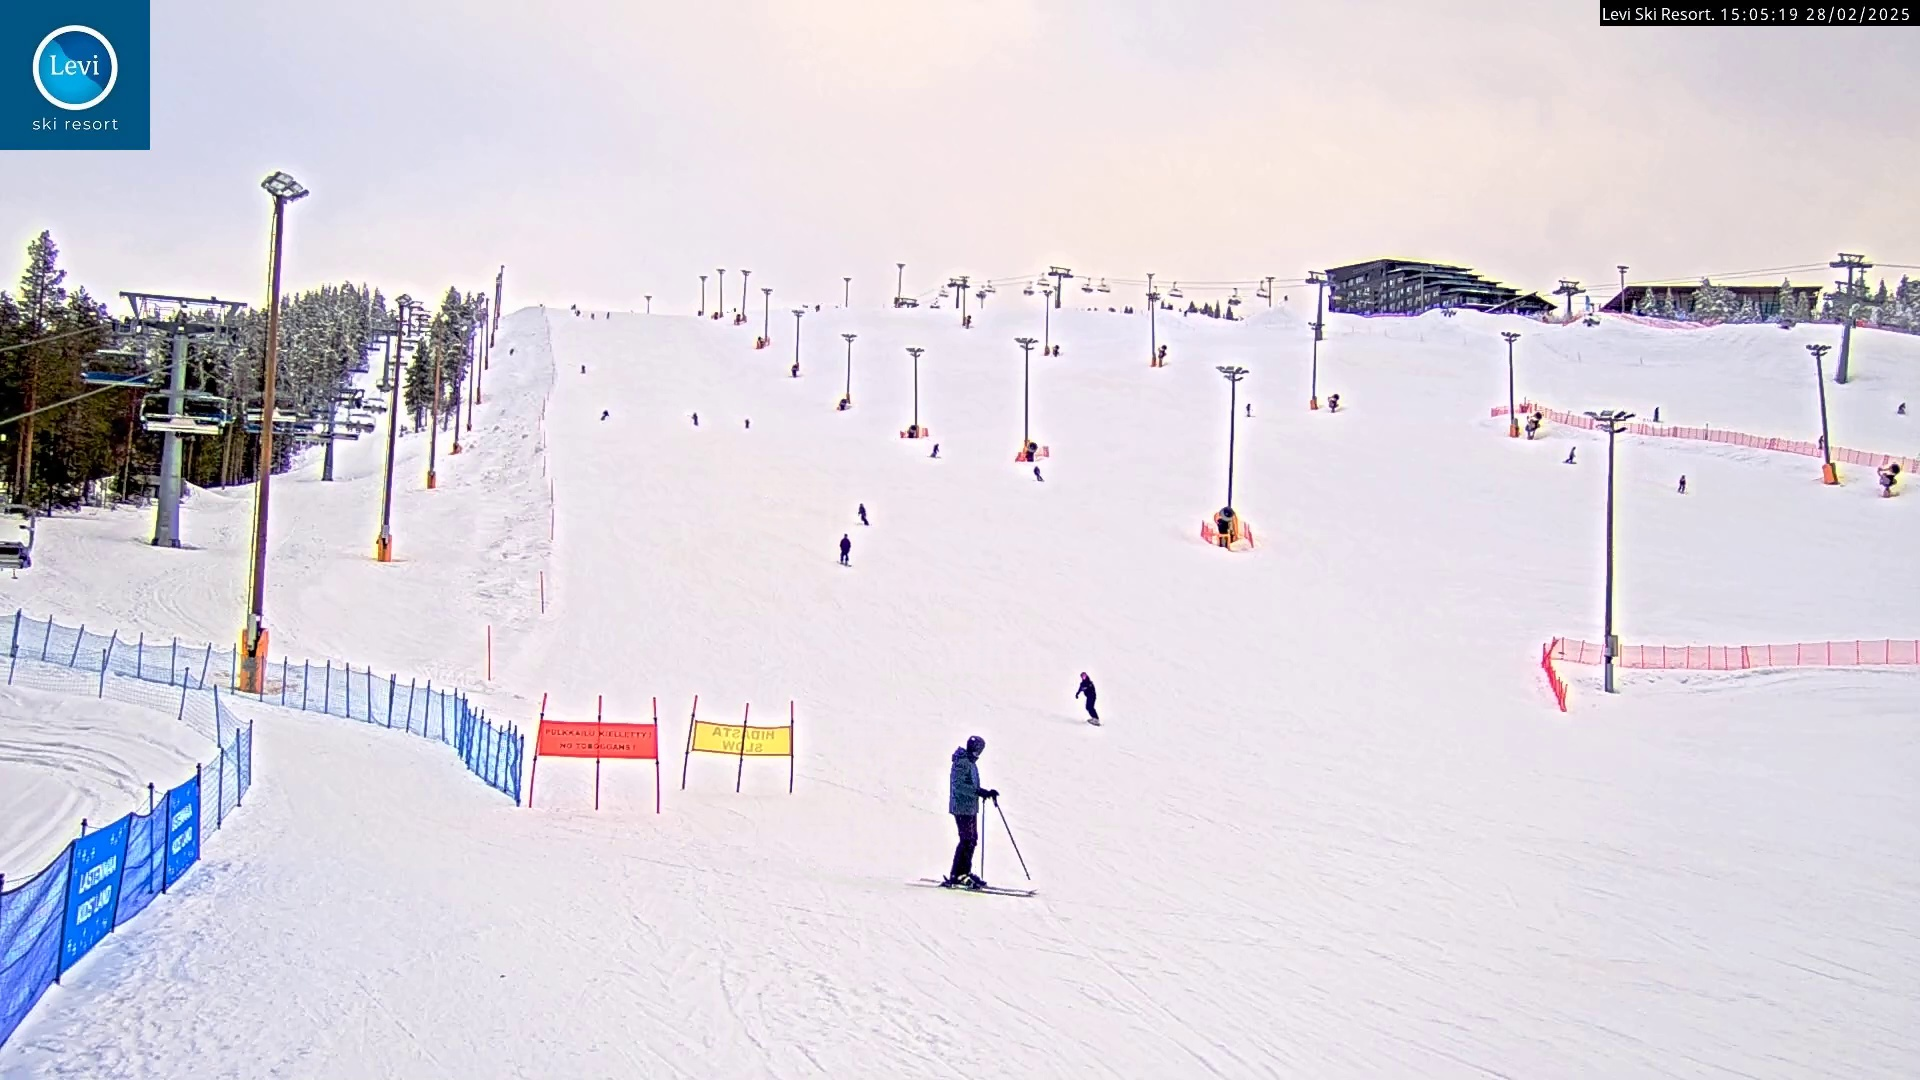skier: (924, 729, 1031, 895)
snowboarder: (1072, 670, 1105, 729)
